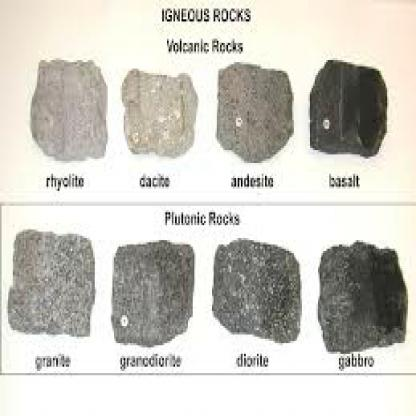Igneous_Diorite: (206, 228, 302, 350)
